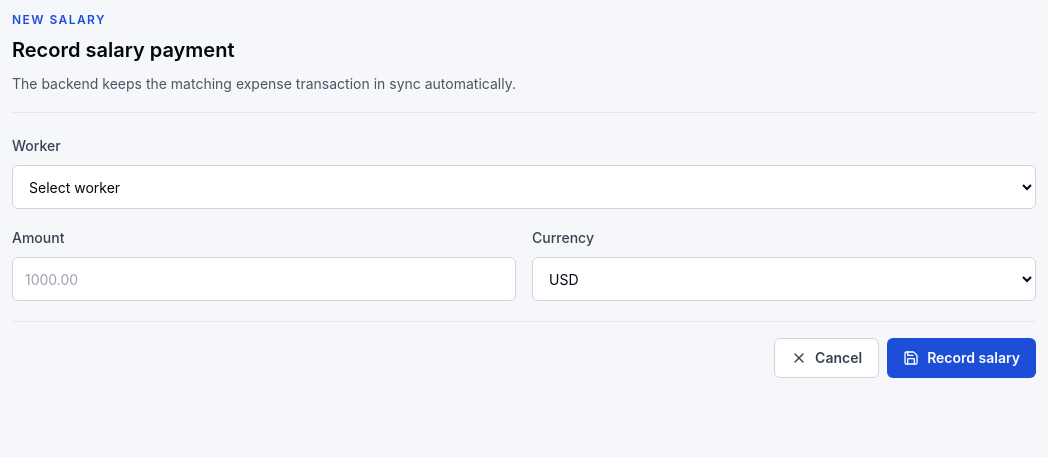
Scenario: SalaryForm › validates required fields with current messages
Submit the form "Record salary"
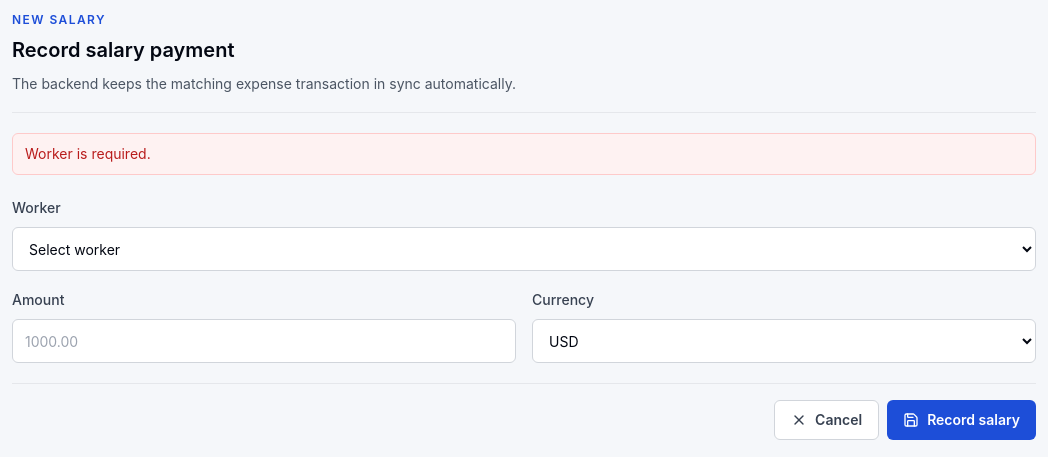
Result: the text "Worker is required." is shown at x1=12 y1=133 x2=1036 y2=175
Select "worker_one #4" in the dropdown labelled "Worker" at [524, 249], box x1=12 y1=227 x2=1036 y2=271
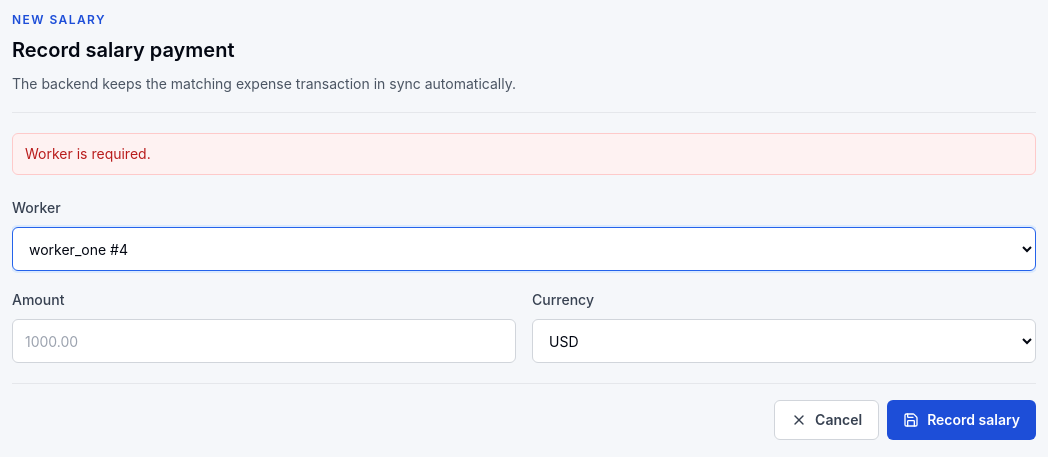
Submit the form "Record salary"
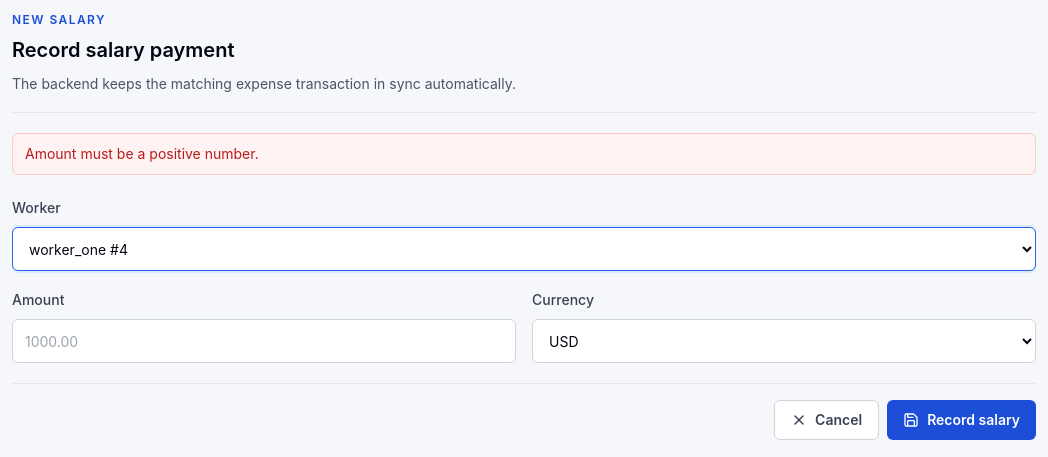
Result: the text "Amount must be a positive number." is shown at x1=12 y1=133 x2=1036 y2=175
